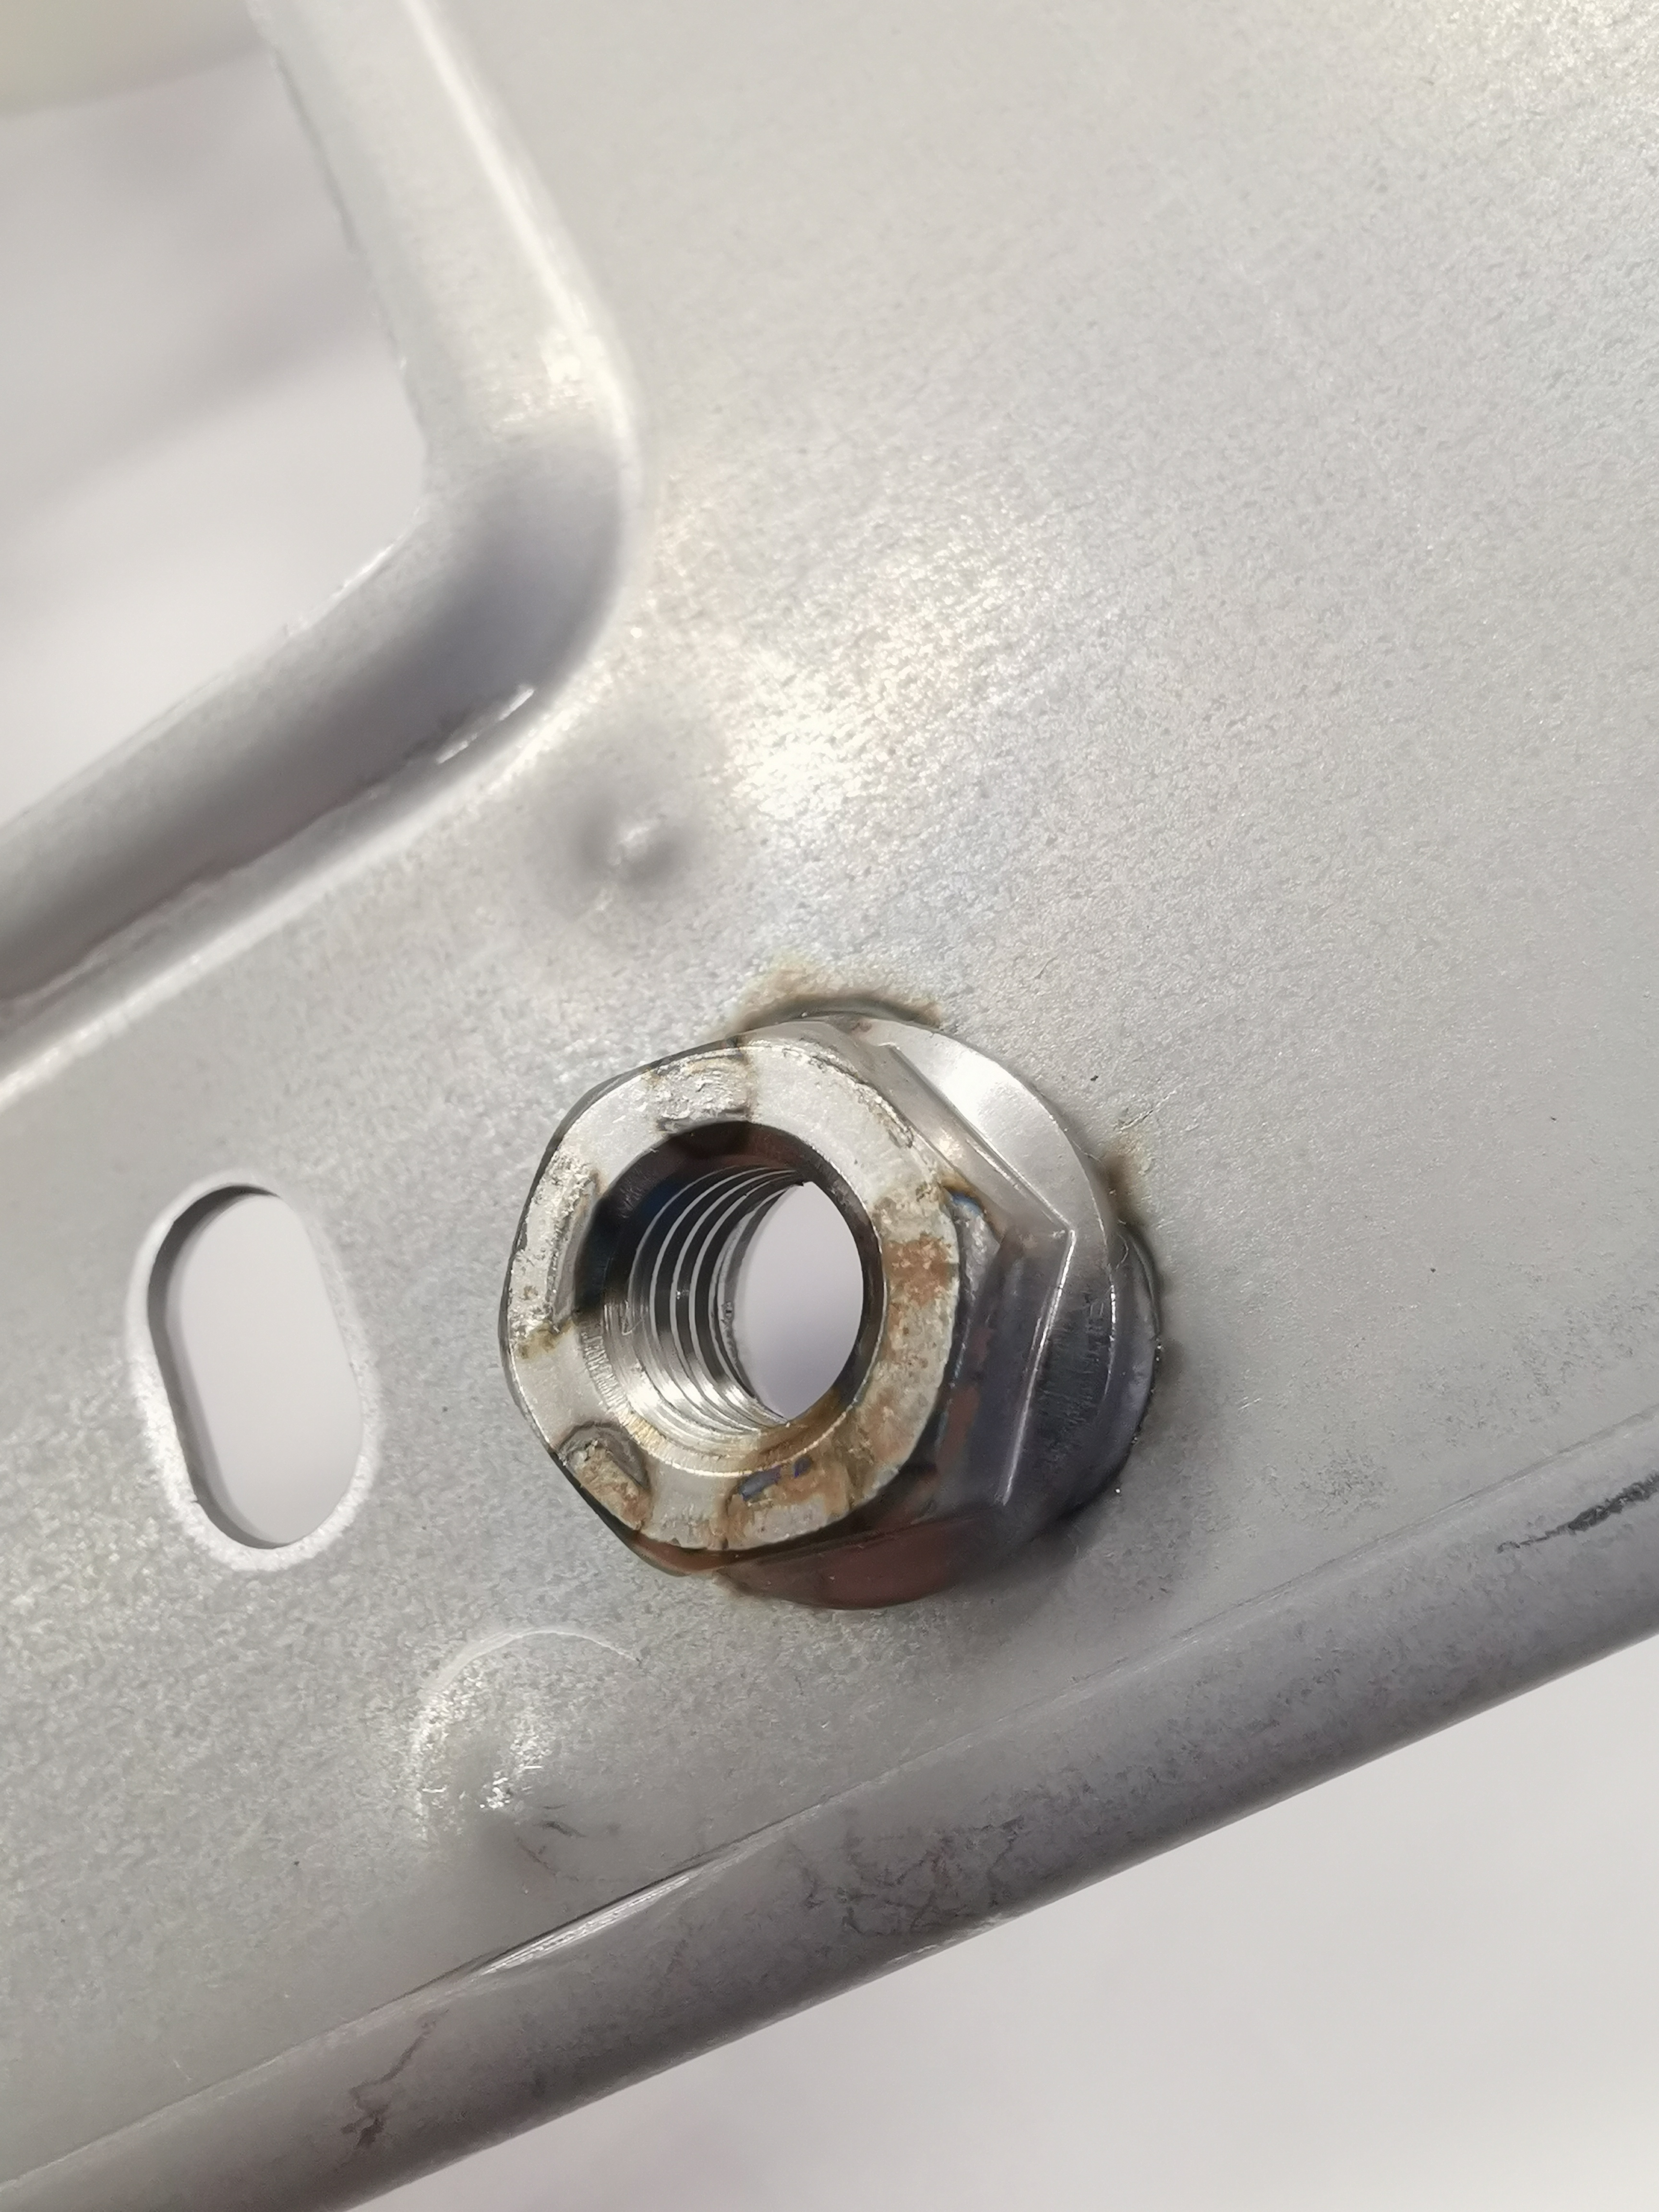dog: (488, 967, 1182, 1615)
